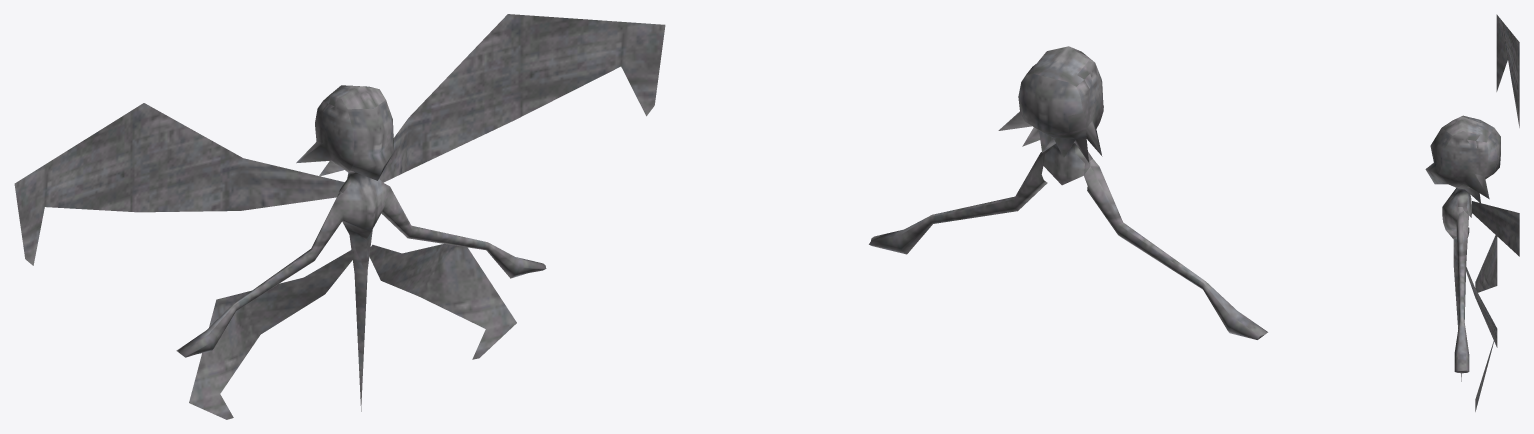
File: ChurchStatue.glb
3 views of the same model, side by side, from view 1: azimuth 30°, elevation 25°; view 2: azimuth 150°, elevation 25°; view 3: azimuth 270°, elevation 25° (orthographic). The views are drawn at different scales.
Parts seen in each view (by area): view 1: SymmVert; view 2: SymmVert; view 3: SymmVert.
Part boxes in pixels (x1=…): SymmVert: x1=14, y1=14, x2=665, y2=419; SymmVert: x1=869, y1=46, x2=1267, y2=339; SymmVert: x1=1425, y1=14, x2=1519, y2=411.
Size of the model in its own units: 27.74 by 13.37 by 4.24.
1 material, 1 textured.
